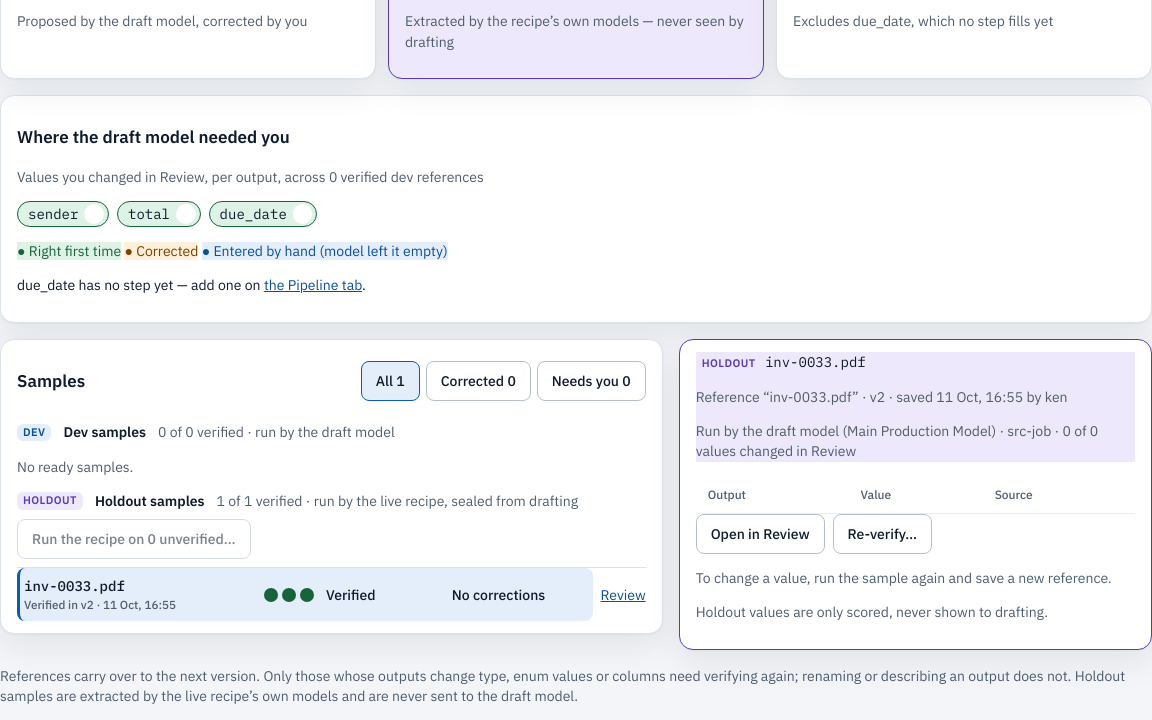
ReferencesTab › re-verifies a holdout sample with the recipe's own models
The width and height of the screenshot is (1152, 720).
(page scrolled)
Step 1. Click the button "Re-verify…" → [882, 534], box [833,514,932,554]
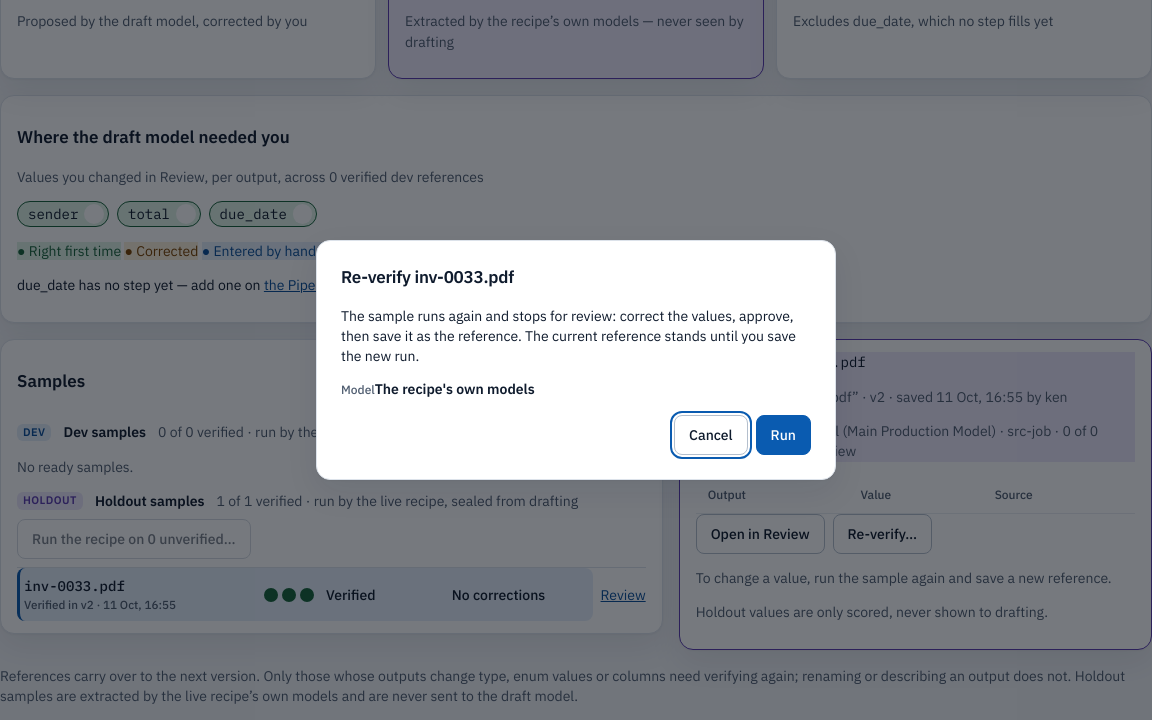
expect the dialog "Re-verify inv-0033.pdf" shows "The recipe's own models": met, box [375,380,535,398]
